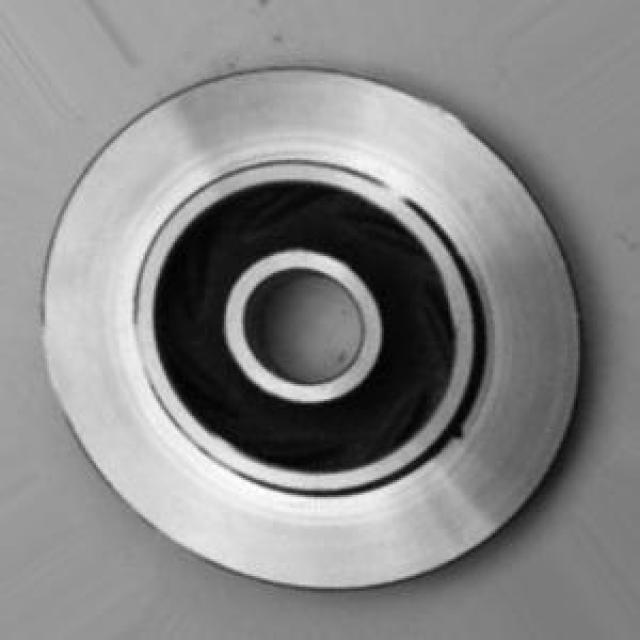Defect: (448, 414, 467, 438)
